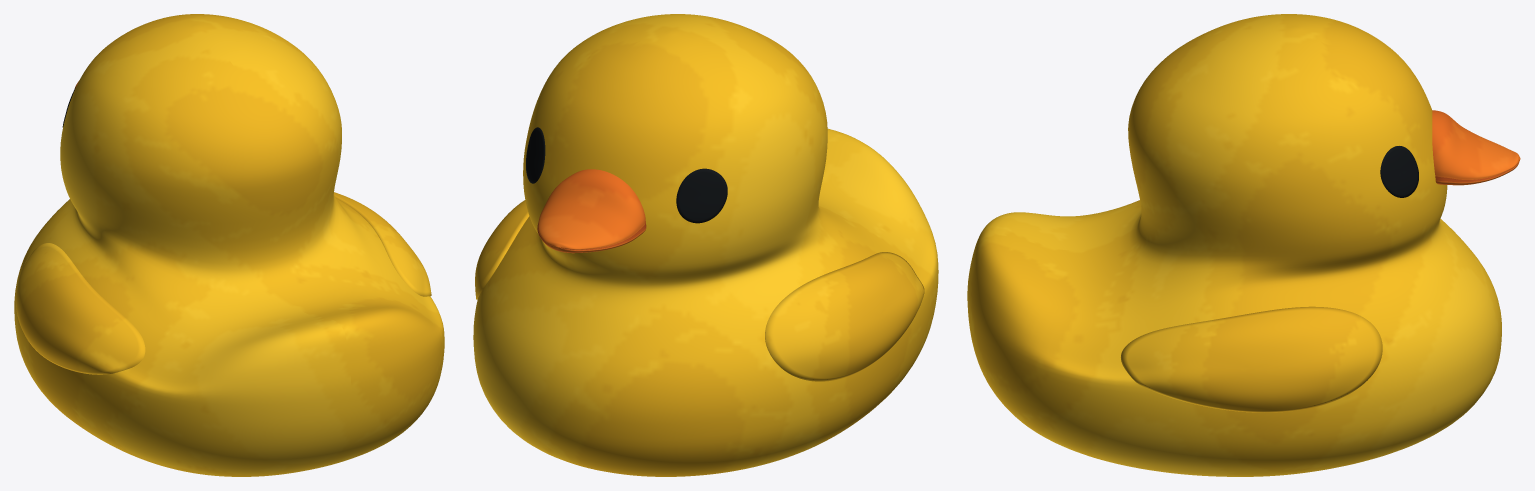
File: Duck_Opponent_FullTake_M410.fbx
3 views of the same model, side by side, from view 1: azimuth 30°, elevation 25°; view 2: azimuth 150°, elevation 25°; view 3: azimuth 270°, elevation 25° (orthographic). The views are drawn at different scales.
Parts seen in each view (by area): view 1: Duck_R04_Body_Head_Chest_Continuous, Duck_R04_Wing_Left, Duck_R04_Wing_Right; view 2: Duck_R04_Body_Head_Chest_Continuous, Duck_R04_Wing_Left, Duck_R04_Bill_Closed_Plump_Wedge, Duck_R04_Eye_Left, Duck_R04_Wing_Right, Duck_R04_Eye_Right; view 3: Duck_R04_Body_Head_Chest_Continuous, Duck_R04_Wing_Right, Duck_R04_Bill_Closed_Plump_Wedge, Duck_R04_Eye_Right.
Part boxes in pixels (box(x1,y1,x2,y2)): Duck_R04_Body_Head_Chest_Continuous: box(14, 14, 444, 476); Duck_R04_Wing_Left: box(15, 243, 145, 374); Duck_R04_Wing_Right: box(334, 192, 431, 296); Duck_R04_Body_Head_Chest_Continuous: box(473, 14, 938, 476); Duck_R04_Wing_Left: box(765, 252, 924, 381); Duck_R04_Bill_Closed_Plump_Wedge: box(537, 169, 646, 253); Duck_R04_Eye_Left: box(676, 168, 727, 223); Duck_R04_Wing_Right: box(475, 200, 529, 299); Duck_R04_Eye_Right: box(526, 127, 545, 183); Duck_R04_Body_Head_Chest_Continuous: box(967, 14, 1501, 476); Duck_R04_Wing_Right: box(1121, 306, 1382, 412); Duck_R04_Bill_Closed_Plump_Wedge: box(1432, 110, 1520, 185); Duck_R04_Eye_Right: box(1380, 146, 1418, 197).
Size of the model in its own units: 105 by 103 by 131.
Materials: 4 (4 with a texture image).
